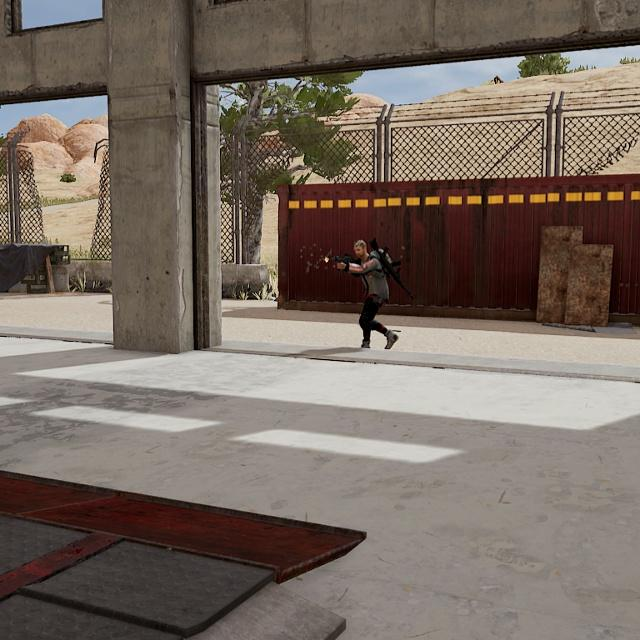head: (351, 240, 367, 259)
people: (337, 240, 400, 353)
